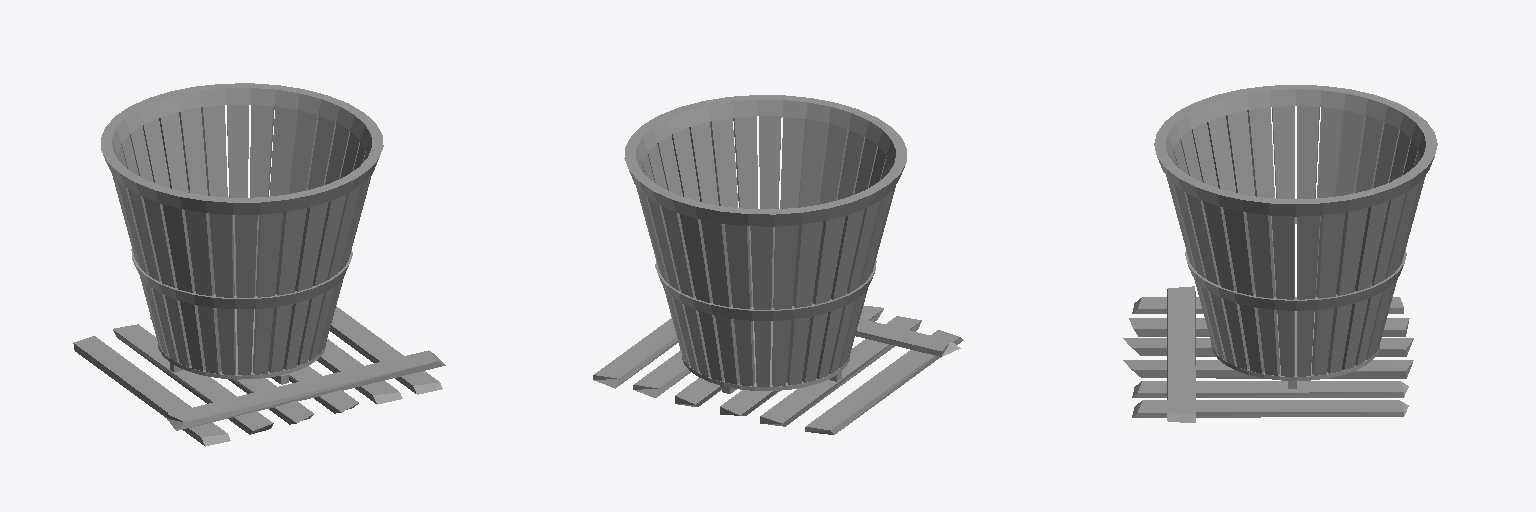
The model's file is basket.obj.
The picture shows the model from 3 angles: view 1: azimuth 30°, elevation 25°; view 2: azimuth 150°, elevation 25°; view 3: azimuth 270°, elevation 25°; orthographic projection.
Parts seen in each view (by area): view 1: Main_wooden_part_Cylinder.001, Cube, ring1_Cylinder.006, ring2_Cylinder.007, Bottom_part01_Cylinder.002; view 2: Main_wooden_part_Cylinder.001, Cube, ring1_Cylinder.006, ring2_Cylinder.007, Bottom_part01_Cylinder.002; view 3: Main_wooden_part_Cylinder.001, Cube, ring1_Cylinder.006, ring2_Cylinder.007, Bottom_part01_Cylinder.002.
Part boxes in pixels (x1,y1,x2,y2): Main_wooden_part_Cylinder.001: (112, 105, 371, 374); Cube: (73, 306, 445, 446); ring1_Cylinder.006: (101, 83, 383, 214); ring2_Cylinder.007: (131, 249, 352, 308); Bottom_part01_Cylinder.002: (158, 309, 325, 379); Main_wooden_part_Cylinder.001: (636, 116, 895, 386); Cube: (593, 305, 963, 434); ring1_Cylinder.006: (624, 95, 906, 226); ring2_Cylinder.007: (655, 261, 876, 320); Bottom_part01_Cylinder.002: (682, 321, 849, 390); Main_wooden_part_Cylinder.001: (1166, 106, 1425, 376); Cube: (1123, 286, 1413, 422); ring1_Cylinder.006: (1154, 85, 1437, 216); ring2_Cylinder.007: (1185, 217, 1406, 310); Bottom_part01_Cylinder.002: (1211, 311, 1379, 380).
Size of the model in its own units: 1.01 by 0.7688 by 1.01.